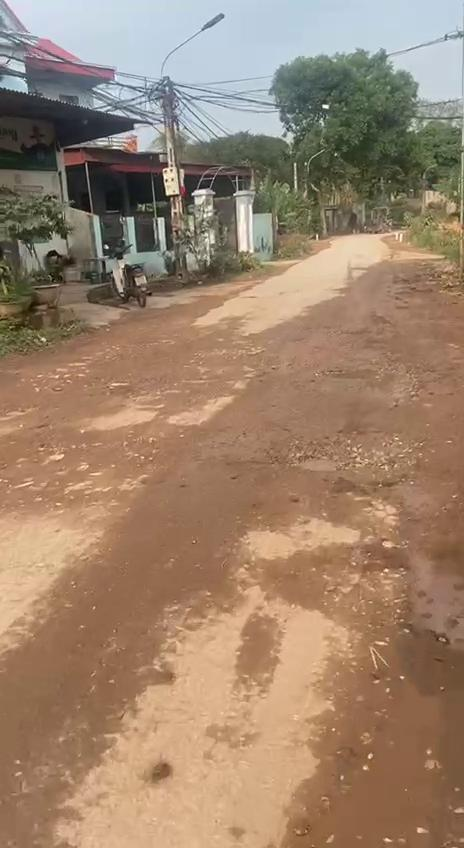pothole: (276, 429, 418, 484), (404, 564, 464, 649), (310, 365, 422, 401), (102, 378, 135, 401)
